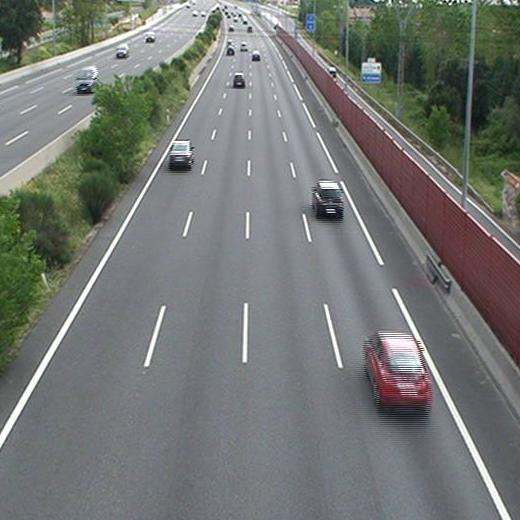car: (365, 332, 431, 402), (313, 182, 343, 213), (169, 141, 192, 164), (233, 73, 245, 85), (225, 46, 235, 55), (251, 51, 260, 60), (239, 42, 248, 50)
